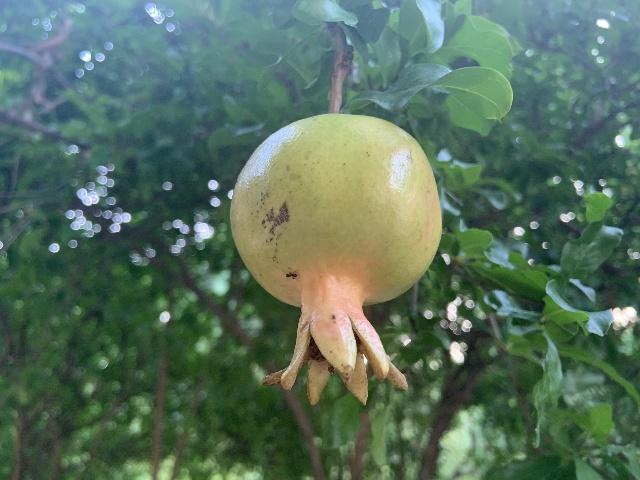mid-growth: (229, 112, 444, 408)
